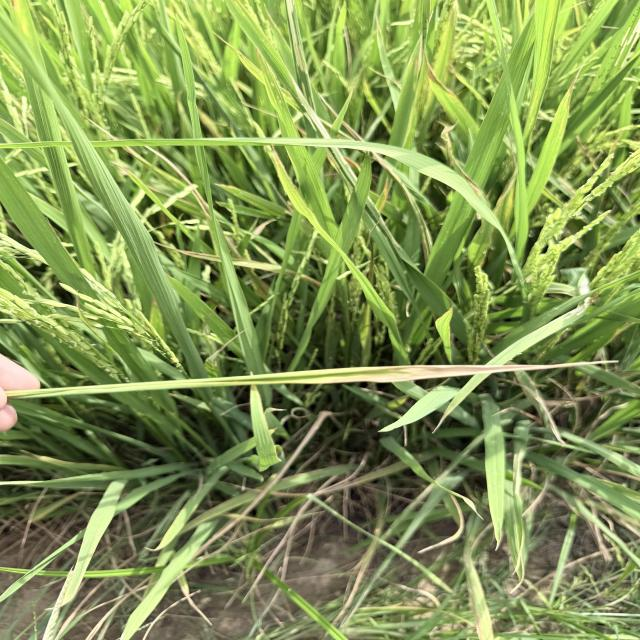Chay bia la: (294, 358, 622, 383)
